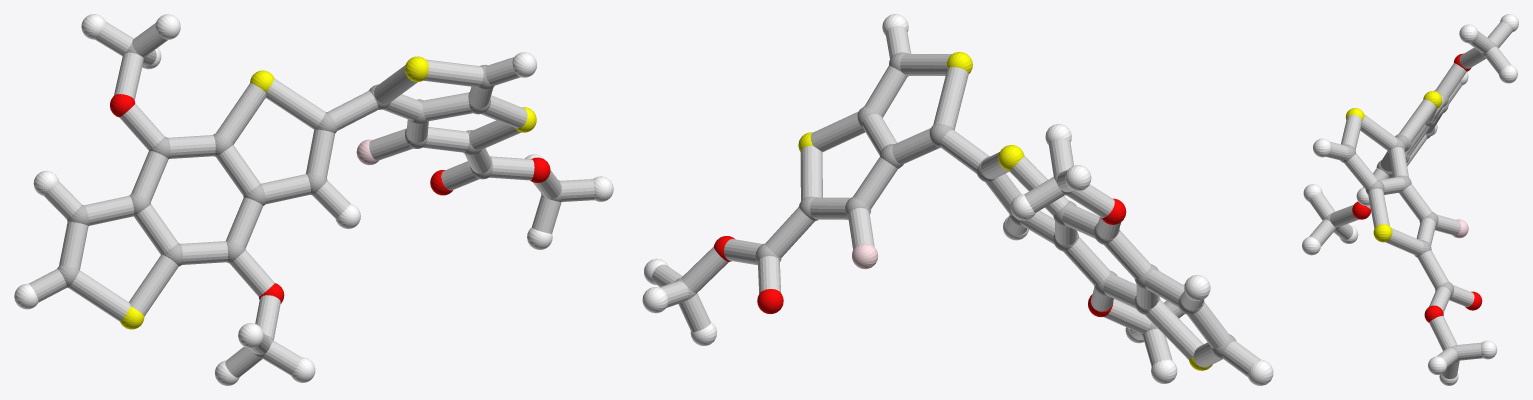
File: color.glb
The picture shows the model from 3 angles, left to right: view 1: azimuth 30°, elevation 25°; view 2: azimuth 150°, elevation 25°; view 3: azimuth 270°, elevation 25°; orthographic projection. The views are drawn at different scales.
Visible parts, largest first — view 1: grp15205, grp8689, grp1, grp7241, grp13395; view 2: grp15205, grp8689, grp1, grp13395, grp7241, grp14843; view 3: grp15205, grp8689, grp1, grp13395, grp7241.
Part boxes in pixels (x1,y1,x2,y2): grp15205: [28, 21, 594, 377]; grp8689: [14, 14, 613, 385]; grp1: [57, 43, 561, 358]; grp7241: [120, 56, 536, 329]; grp13395: [110, 94, 550, 303]; grp15205: [652, 26, 1260, 376]; grp8689: [642, 14, 1273, 385]; grp1: [674, 52, 1236, 358]; grp13395: [714, 198, 1126, 317]; grp7241: [798, 52, 1212, 370]; grp14843: [852, 243, 878, 269]; grp15205: [1309, 21, 1512, 378]; grp8689: [1302, 14, 1518, 385]; grp1: [1324, 41, 1497, 362]; grp13395: [1352, 53, 1482, 322]; grp7241: [1345, 91, 1442, 242].
Size of the model in its own units: 16.23 by 8.01 by 6.83.
